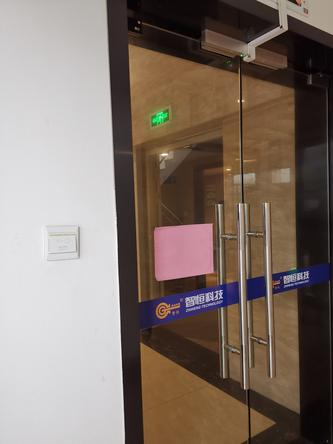switch: (48, 229, 80, 256)
